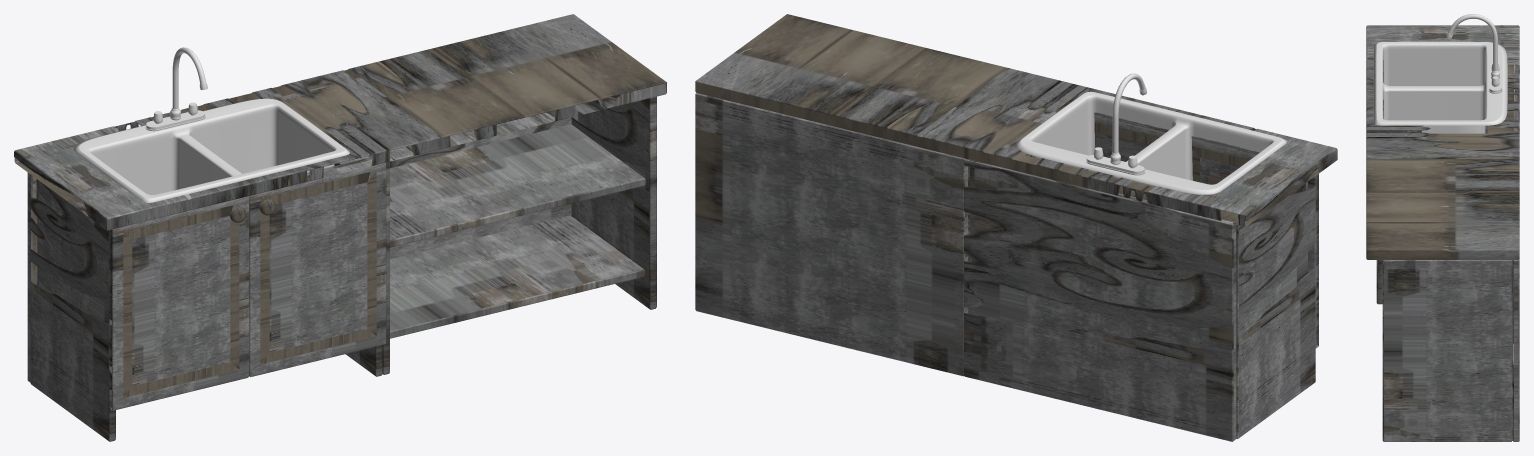
File: SinkCabinet.fbx
3 views of the same model, side by side, from view 1: azimuth 30°, elevation 25°; view 2: azimuth 150°, elevation 25°; view 3: azimuth 270°, elevation 25° (orthographic). The views are drawn at different scales.
Visible parts, largest first — view 1: SinkCabinet, LeftCabinetDoor, RightCabinetDoor, Cabinet_Shelf_A.008_Material_0, Cabinet_Shelf_A.006_Material_0, Cabinet_Side_B.007_Material_0, KitchenSink, Cabinet_Side_B.009_Material_0, Cabinet_Back_B.004_Material_0, Cabinet_Side_B.008_Material_0, Cabinet_Back_B.003_Material_0, KitchenSinkFaucet; view 2: Cabinet_Back_B.003_Material_0, Cabinet_Back_B.004_Material_0, SinkCabinet, Cabinet_Side_B.007_Material_0, KitchenSink, LeftCabinetDoor, RightCabinetDoor, KitchenSinkFaucet; view 3: SinkCabinet, Cabinet_Side_B.009_Material_0, KitchenSink, Cabinet_Back_B.004_Material_0, KitchenSinkFaucet, RightCabinetDoor, Cabinet_Back_B.003_Material_0.
Boxes of the visible parts, x1,y1,x2,y2 form: SinkCabinet: (14, 14, 666, 230); LeftCabinetDoor: (109, 196, 249, 410); RightCabinetDoor: (249, 157, 386, 377); Cabinet_Shelf_A.008_Material_0: (390, 124, 645, 247); Cabinet_Shelf_A.006_Material_0: (390, 215, 644, 338); Cabinet_Side_B.007_Material_0: (30, 175, 115, 441); KitchenSink: (74, 98, 349, 202); Cabinet_Side_B.009_Material_0: (571, 94, 656, 309); Cabinet_Back_B.004_Material_0: (390, 110, 571, 259); Cabinet_Side_B.008_Material_0: (334, 162, 389, 376); Cabinet_Back_B.003_Material_0: (27, 94, 302, 382); KitchenSinkFaucet: (170, 47, 207, 120); Cabinet_Back_B.003_Material_0: (964, 158, 1236, 441); Cabinet_Back_B.004_Material_0: (695, 93, 967, 376); SinkCabinet: (695, 14, 1337, 226); Cabinet_Side_B.007_Material_0: (1232, 176, 1315, 438); KitchenSink: (1015, 91, 1287, 194); LeftCabinetDoor: (1191, 136, 1318, 348); RightCabinetDoor: (1094, 112, 1168, 161); KitchenSinkFaucet: (1110, 73, 1146, 164); SinkCabinet: (1366, 25, 1519, 259); Cabinet_Side_B.009_Material_0: (1382, 260, 1512, 441); KitchenSink: (1373, 41, 1507, 133); Cabinet_Back_B.004_Material_0: (1512, 259, 1519, 441); KitchenSinkFaucet: (1446, 14, 1499, 78); RightCabinetDoor: (1376, 100, 1383, 304); Cabinet_Back_B.003_Material_0: (1512, 64, 1518, 296).
Size of the model in its own units: 225 by 123 by 65.
